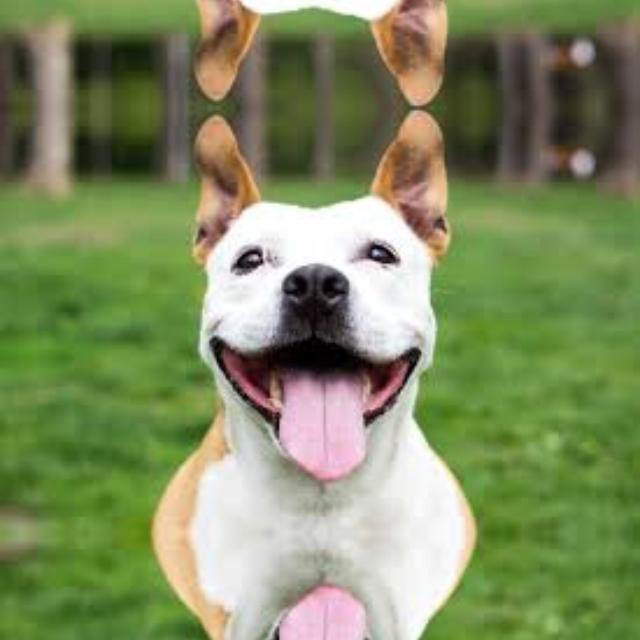dog: (153, 107, 523, 533), (153, 0, 523, 107), (153, 533, 523, 640)
